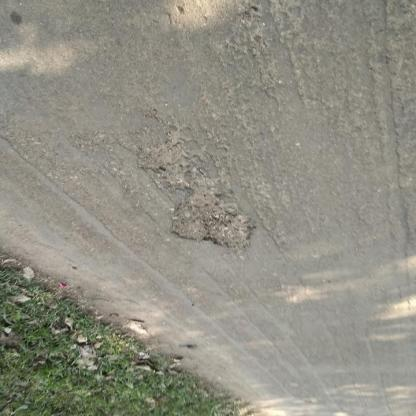pothole: (164, 194, 260, 253), (134, 133, 193, 194)
